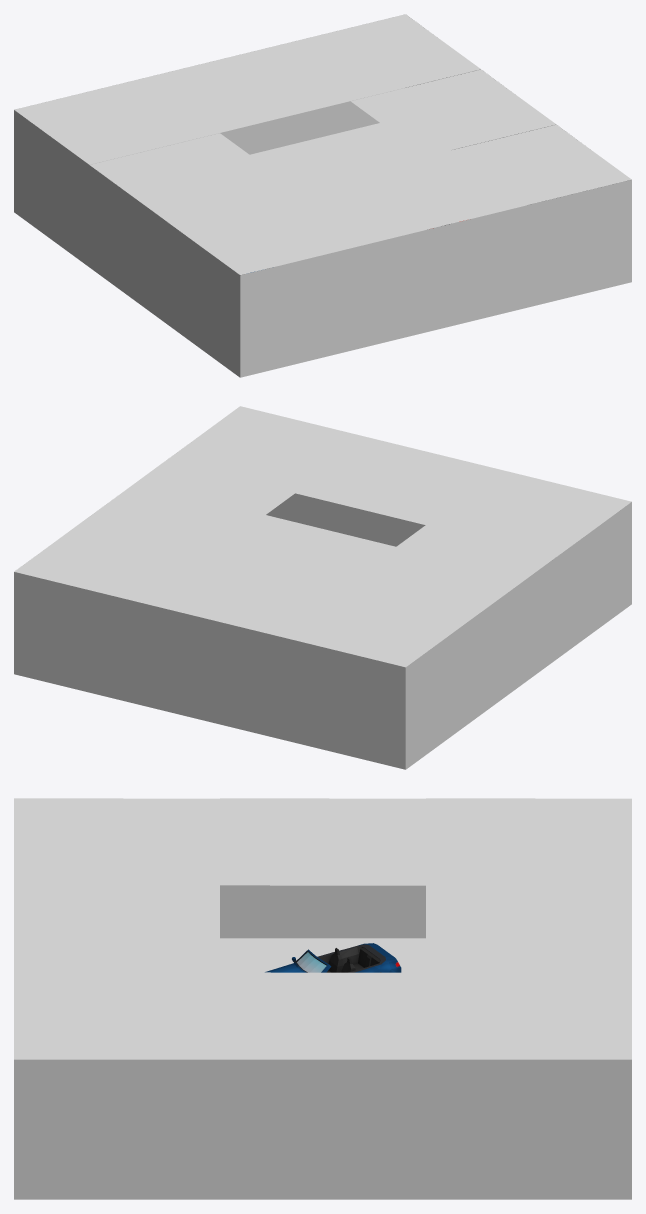
3 renders of one model, top to bottom at view 1: azimuth 30°, elevation 25°; view 2: azimuth 150°, elevation 25°; view 3: azimuth 270°, elevation 25°, orthographic. The views are drawn at different scales.
Parts seen in each view (by area): view 1: C2W, C1W, C3W, B2R, A1R, B3R, C2R, A2R, A3R, C1R, C3R, C1W.001 (+6 smaller); view 2: A2W, A1W, A3W, C2R, A2R, A1R, A3R, B2R, C1R, B3R, C3R, A1W.001 (+6 smaller); view 3: B3W, A3W.001, C3W.001, C1R, C2R, C3R, A1R, A2R, A3R, B3R, B2R, B1W (+2 smaller).
Boxes of the visible parts, x1,y1,x2,y2 form: C2W: [370, 212, 501, 345]; C1W: [240, 243, 370, 377]; C3W: [501, 180, 631, 313]; B2R: [90, 133, 294, 219]; A1R: [14, 78, 219, 164]; B3R: [351, 69, 556, 156]; C2R: [296, 156, 500, 243]; A2R: [145, 46, 349, 132]; A3R: [275, 14, 480, 100]; C1R: [165, 188, 370, 274]; C3R: [426, 124, 631, 211]; C1W.001: [164, 220, 240, 377]; A2W: [144, 604, 275, 737]; A1W: [275, 635, 405, 769]; A3W: [14, 572, 144, 705]; C2R: [295, 438, 500, 524]; A2R: [145, 548, 350, 635]; A1R: [275, 580, 480, 667]; A3R: [14, 516, 219, 603]; B2R: [351, 525, 555, 611]; C1R: [427, 470, 631, 556]; B3R: [90, 461, 294, 548]; C3R: [165, 406, 370, 492]; A1W.001: [405, 612, 481, 769]; B3W: [220, 1059, 425, 1199]; A3W.001: [426, 1059, 631, 1199]; C3W.001: [14, 1059, 219, 1199]; C1R: [14, 798, 219, 885]; C2R: [14, 885, 219, 972]; C3R: [14, 972, 219, 1059]; A1R: [426, 798, 631, 885]; A2R: [426, 885, 631, 972]; A3R: [426, 972, 631, 1059]; B3R: [220, 972, 425, 1059]; B2R: [220, 798, 425, 885]; B1W: [220, 885, 425, 938].
Bounding box in the file's own units: 20 × 5.02 × 20.
38 materials, 1 textured.
